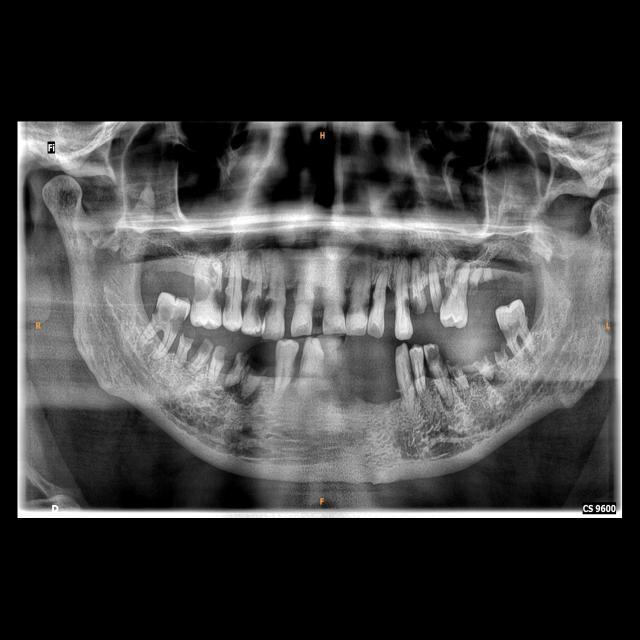dentin-curugu: (194, 274, 223, 312), (242, 273, 264, 322), (262, 278, 284, 318), (406, 287, 429, 321), (418, 344, 442, 362), (499, 322, 518, 341), (344, 292, 359, 316), (172, 306, 182, 336), (158, 304, 172, 325), (442, 282, 454, 306)
kirik: (489, 339, 513, 371), (442, 352, 468, 379), (472, 352, 494, 380), (232, 348, 253, 376), (178, 328, 196, 354), (196, 333, 214, 359), (212, 343, 229, 368), (470, 262, 482, 297)
kok-enfeksiyonu: (219, 376, 265, 411)
